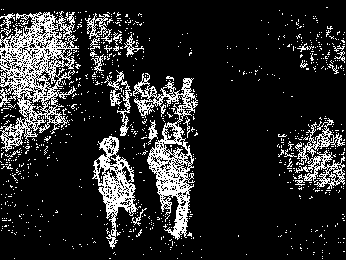person: (94, 136, 140, 248), (150, 122, 192, 238), (134, 73, 159, 137), (112, 72, 133, 136), (159, 74, 178, 136), (179, 77, 198, 137)
